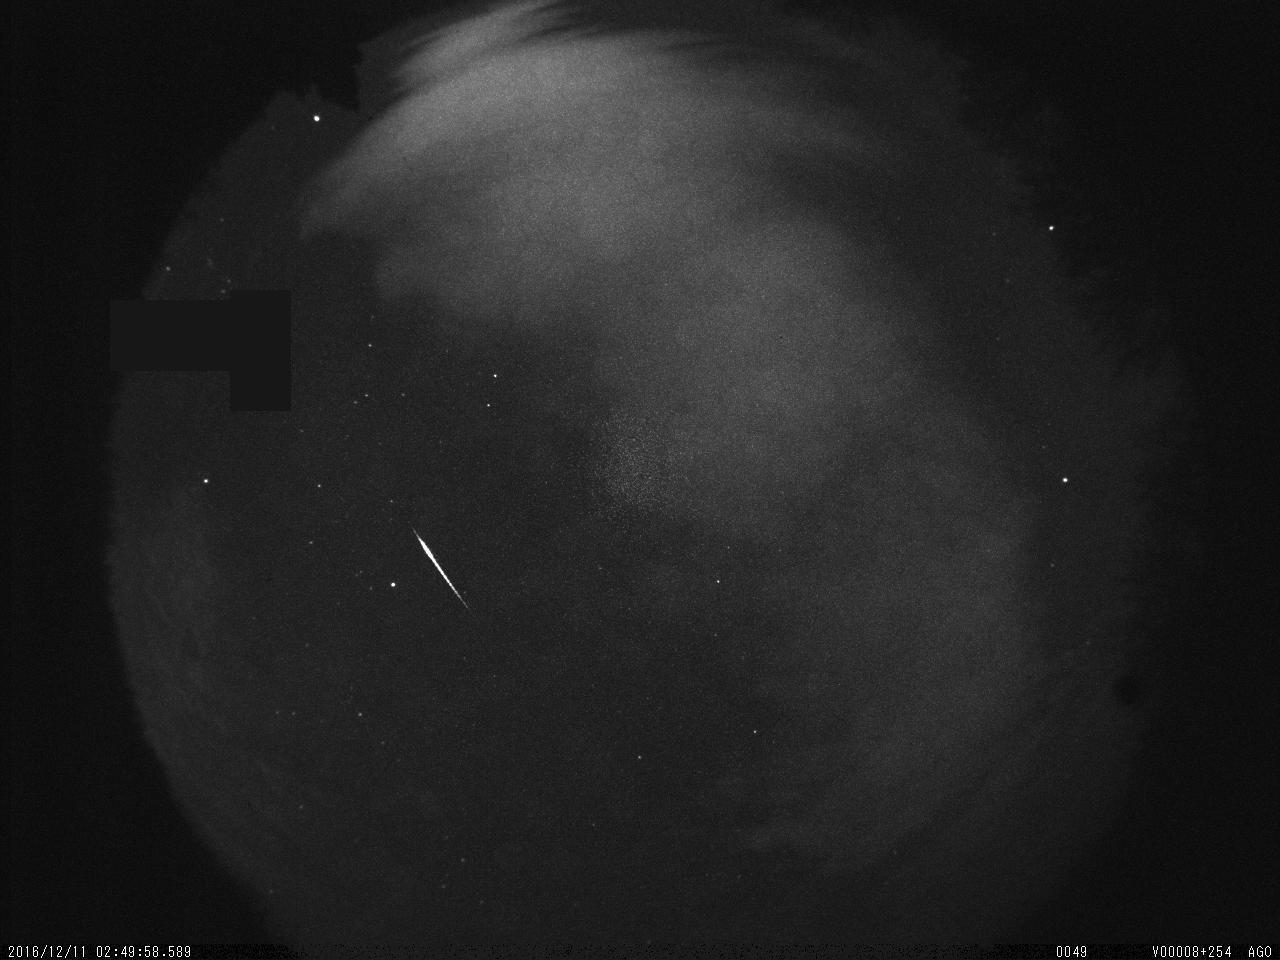meteor: (399, 516, 503, 632)
